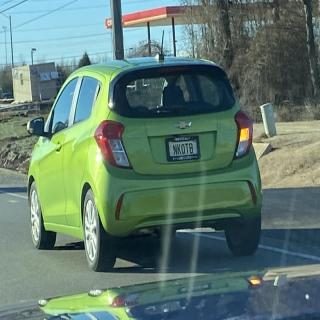license: (166, 137, 202, 162)
